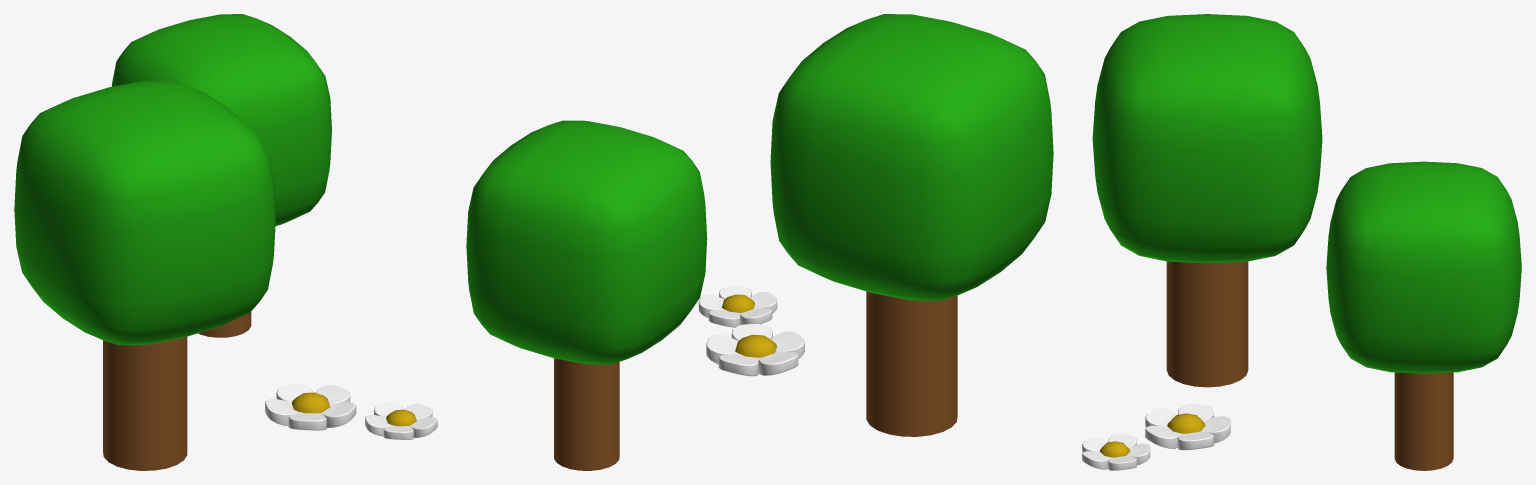
Rendered from Park.fbx.
3 views of the same model, side by side, from view 1: azimuth 30°, elevation 25°; view 2: azimuth 150°, elevation 25°; view 3: azimuth 270°, elevation 25° (orthographic). The views are drawn at different scales.
Parts seen in each view (by area): view 1: Park; view 2: Park; view 3: Park.
Boxes of the visible parts, box(x1,y1,x2,y2) form: Park: box(14, 14, 437, 470); Park: box(466, 14, 1053, 470); Park: box(1082, 14, 1521, 470).
Bounding box in the file's own units: 143 × 125 × 149.
Materials: 1 (1 with a texture image).
